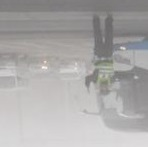person: (83, 11, 120, 96)
